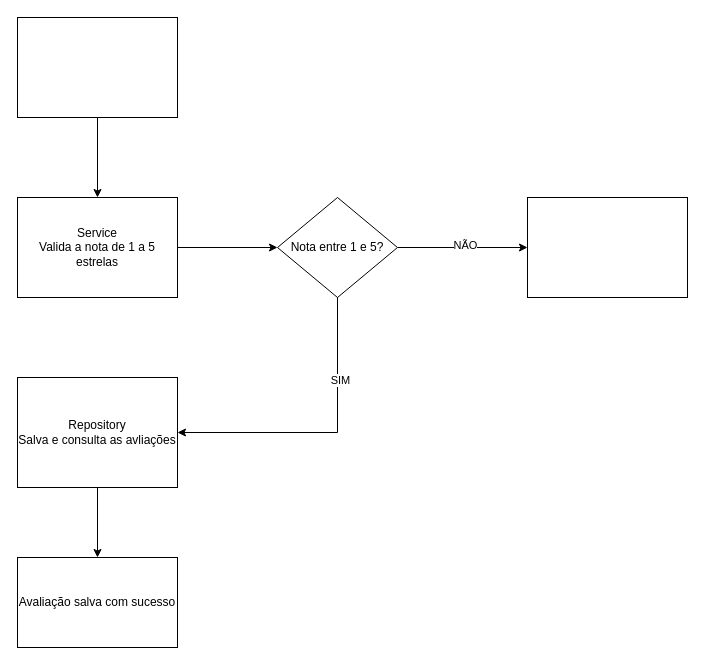
This 705x665 diagram has some shape labels left out. The centre of each missing label's shape, as x and y in pixels:
"Avaliação rejeitada Nota inválida" goes at point (607, 247).
"Controller Recebe a avaliação do cliente" goes at point (97, 67).
